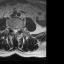CCS_normal: (14, 27, 16, 35)
LFS_normal: (17, 27, 19, 33)
LLS_normal: (16, 27, 17, 33)
RFS_normal: (10, 26, 12, 32)
RLS_normal: (12, 27, 14, 34)
